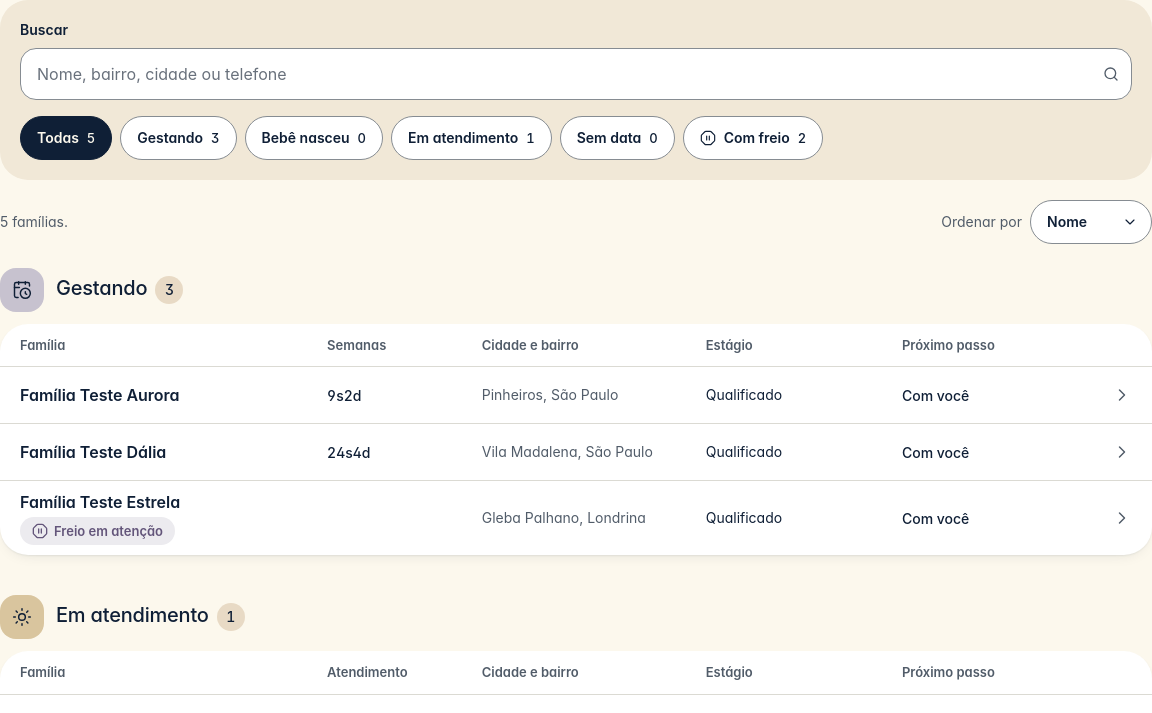
Scenario: ListaFamilias › filtro sem resultado diz qual filtro está ligado e oferece limpar
What coordinates should you click on to do the following:
click the button "Bebê nasceu 0"
I would click on:
 (314, 138)
Its box is [244,116,383,160].
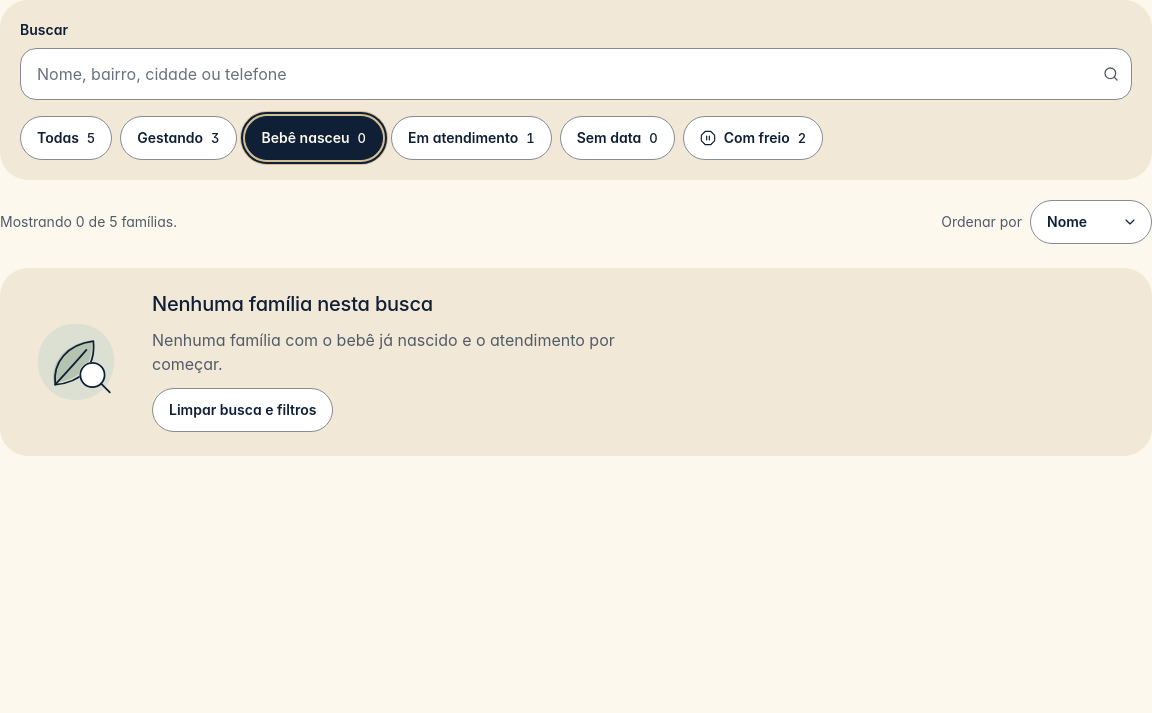
Expected: the text "Nenhuma família com o bebê já nascido" is shown, [152,330,615,374]
What coordinates should you click on to do the following:
click the button named "Limpar busca e filtros"
I would click on:
 (243, 410)
Its box is [152,388,333,432].
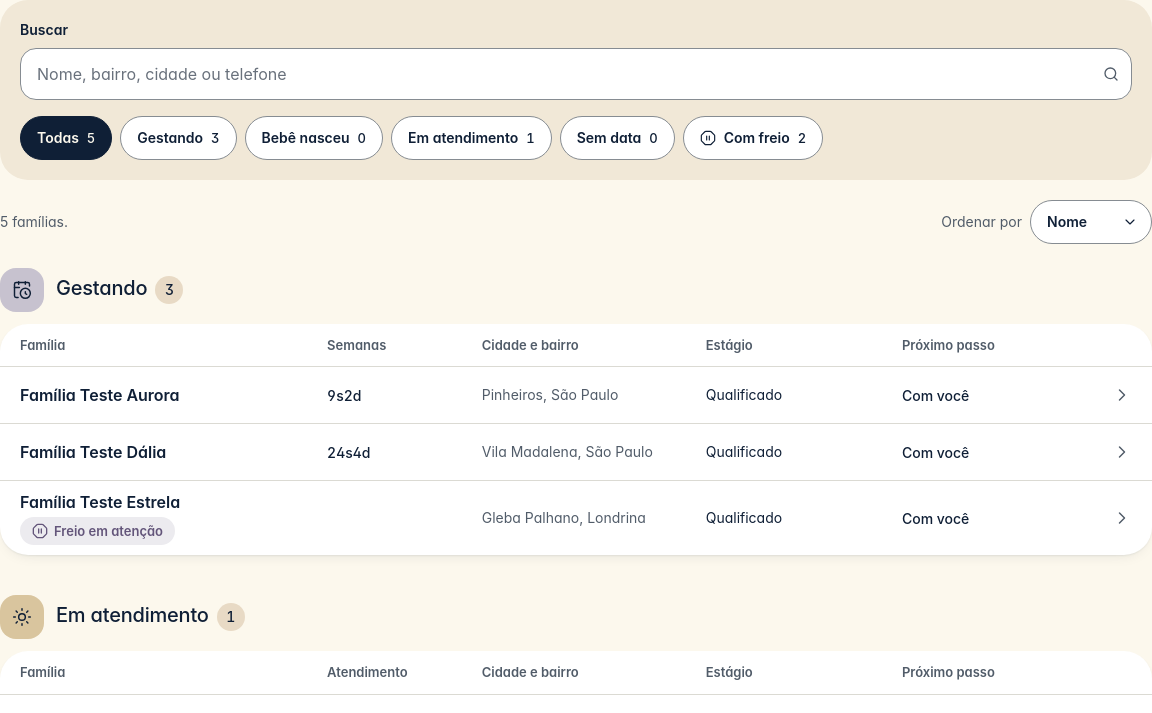
Expected: the link "Família Teste Aurora" is shown, [20,386,1132,406]
